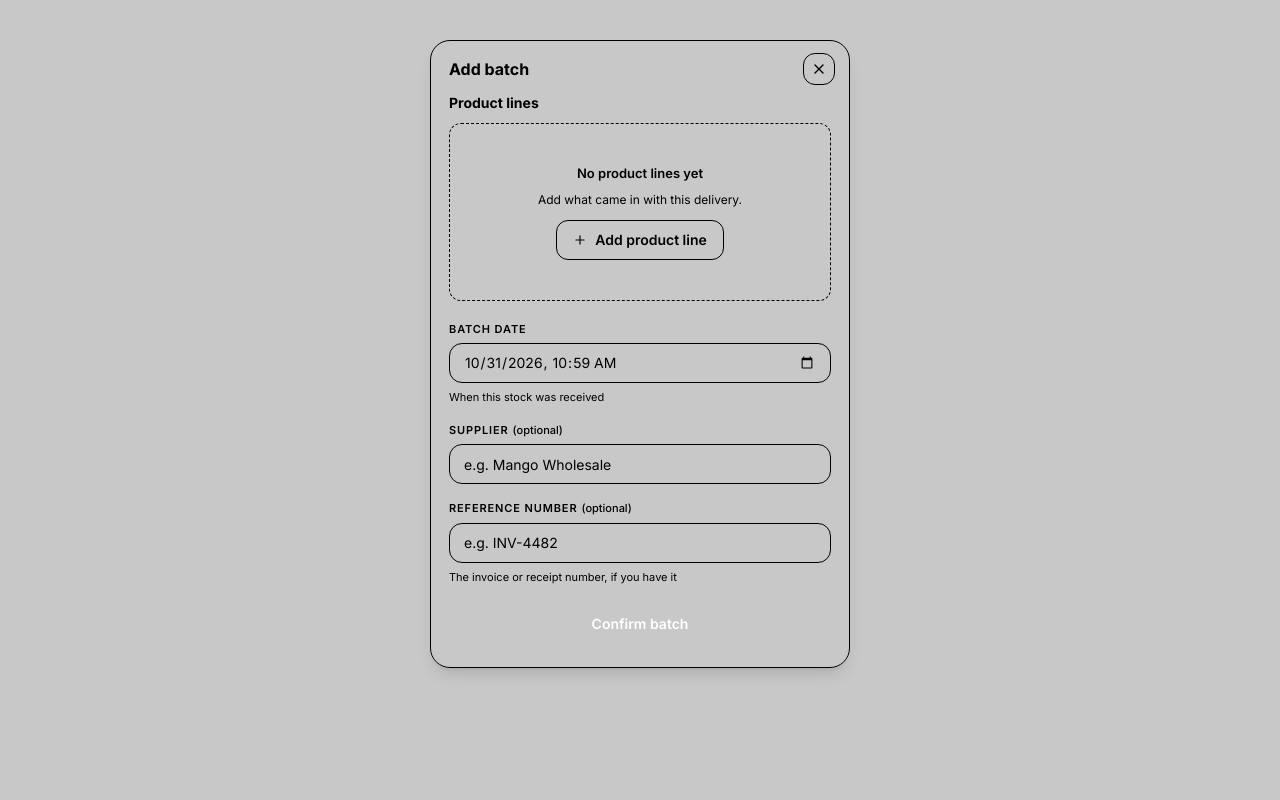
AddBatchSheet › does not request the products until the picker is opened
Click the button "Add product line": (640, 240) [556, 220, 724, 260]
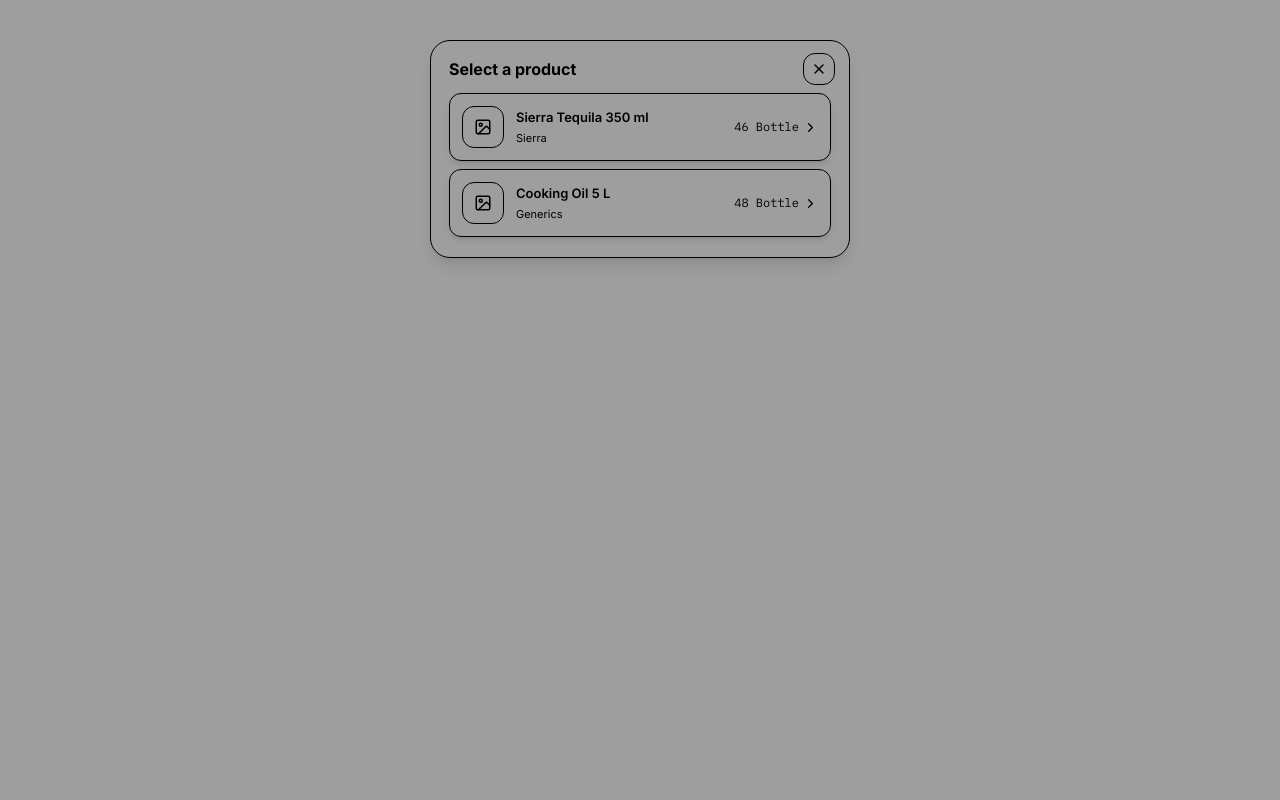
expect the button "Sierra Tequila 350 ml Sierra 46 Bottle" is shown: met, box [449, 93, 831, 161]
